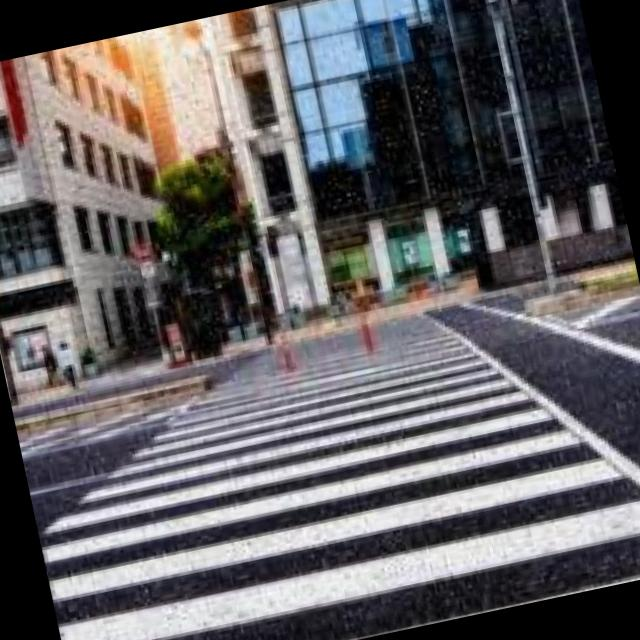zebra: (38, 305, 640, 640)
